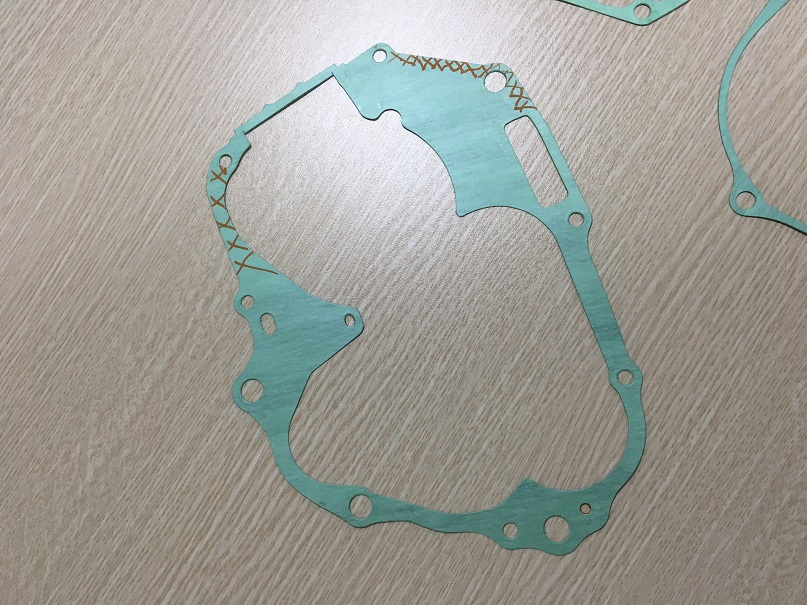type3: (197, 33, 661, 567)
